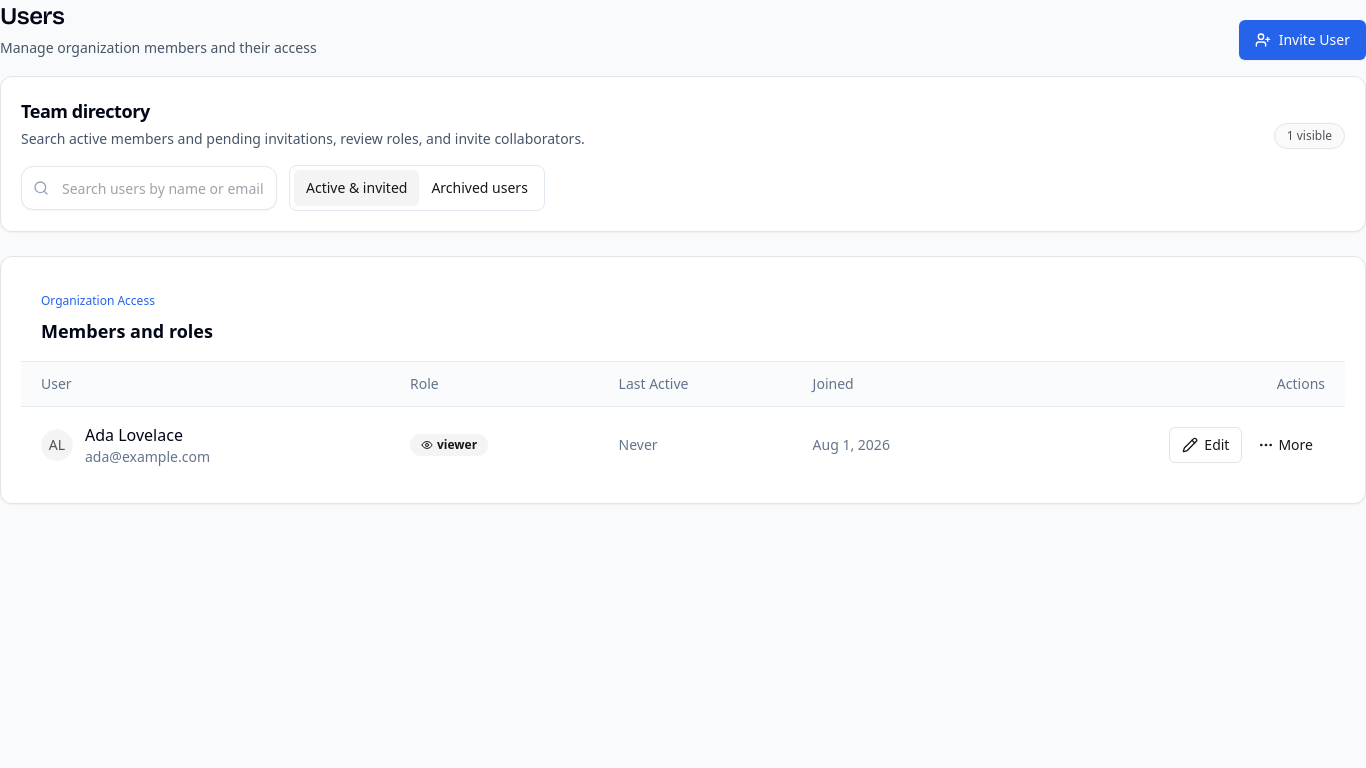
Scenario: Users page row actions › keeps edit and secondary actions usable after an edit saves and refreshes rows
This screenshot has width=1366, height=768.
Click the button with aria-label "Edit Ada Lovelace": (1206, 445) [1169,427,1242,463]
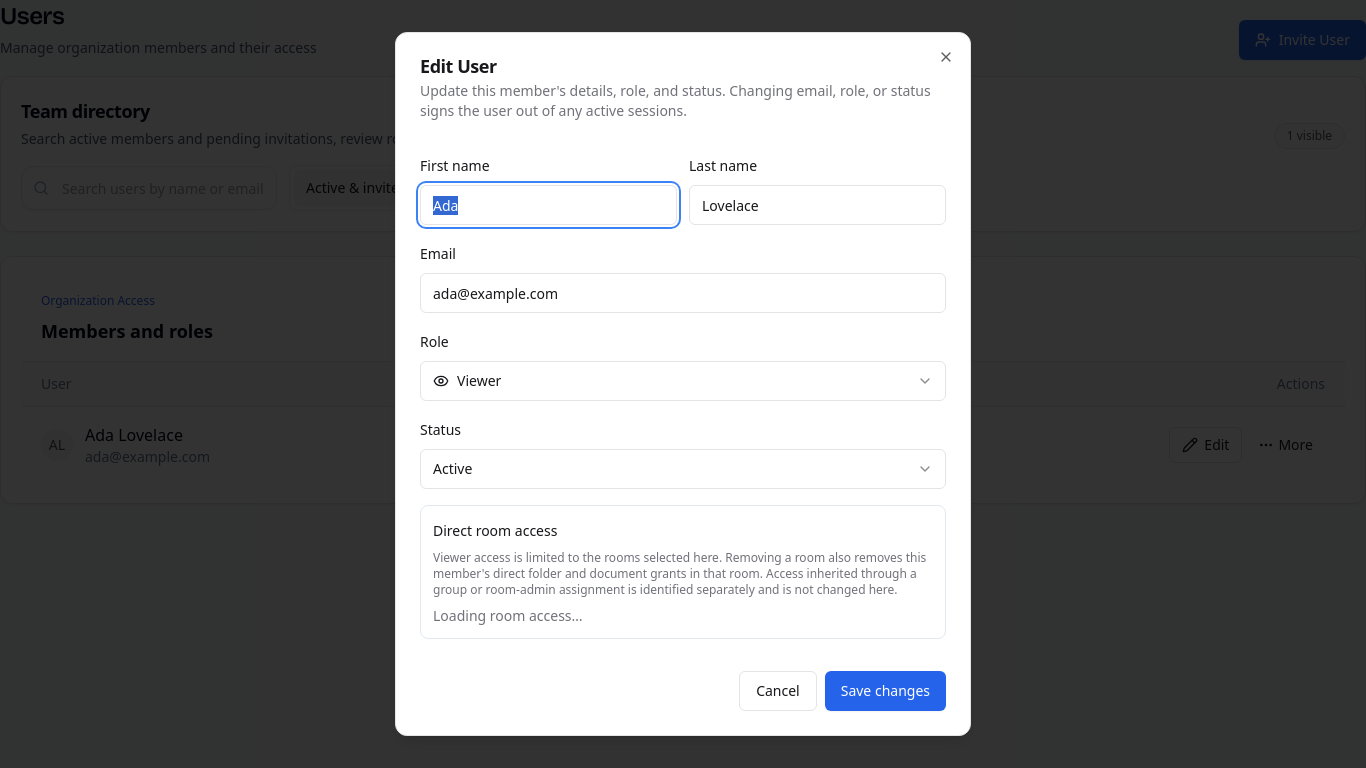
Replace the text in the field labelled "First name" with "Augusta": (548, 205) [420,185,677,225]
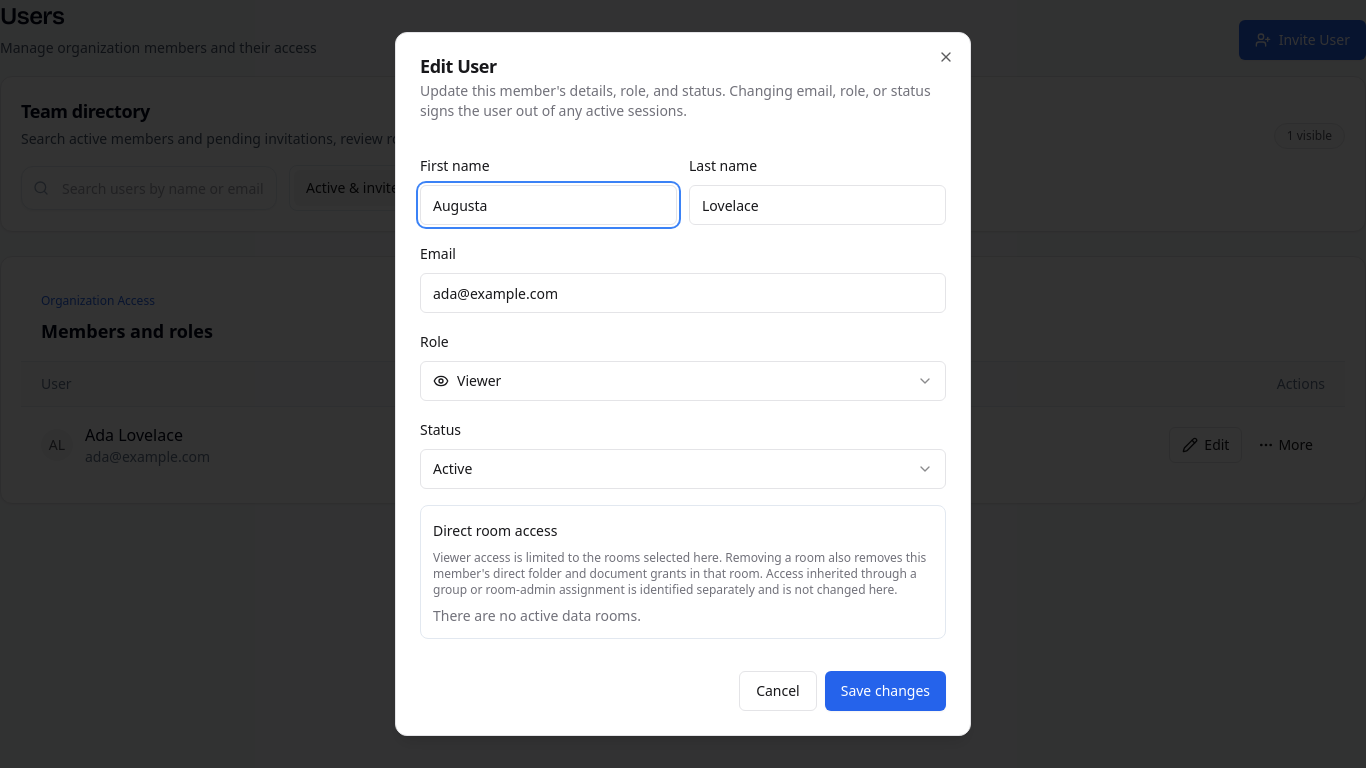
Click the button "Save changes": (885, 691) [825,671,946,711]
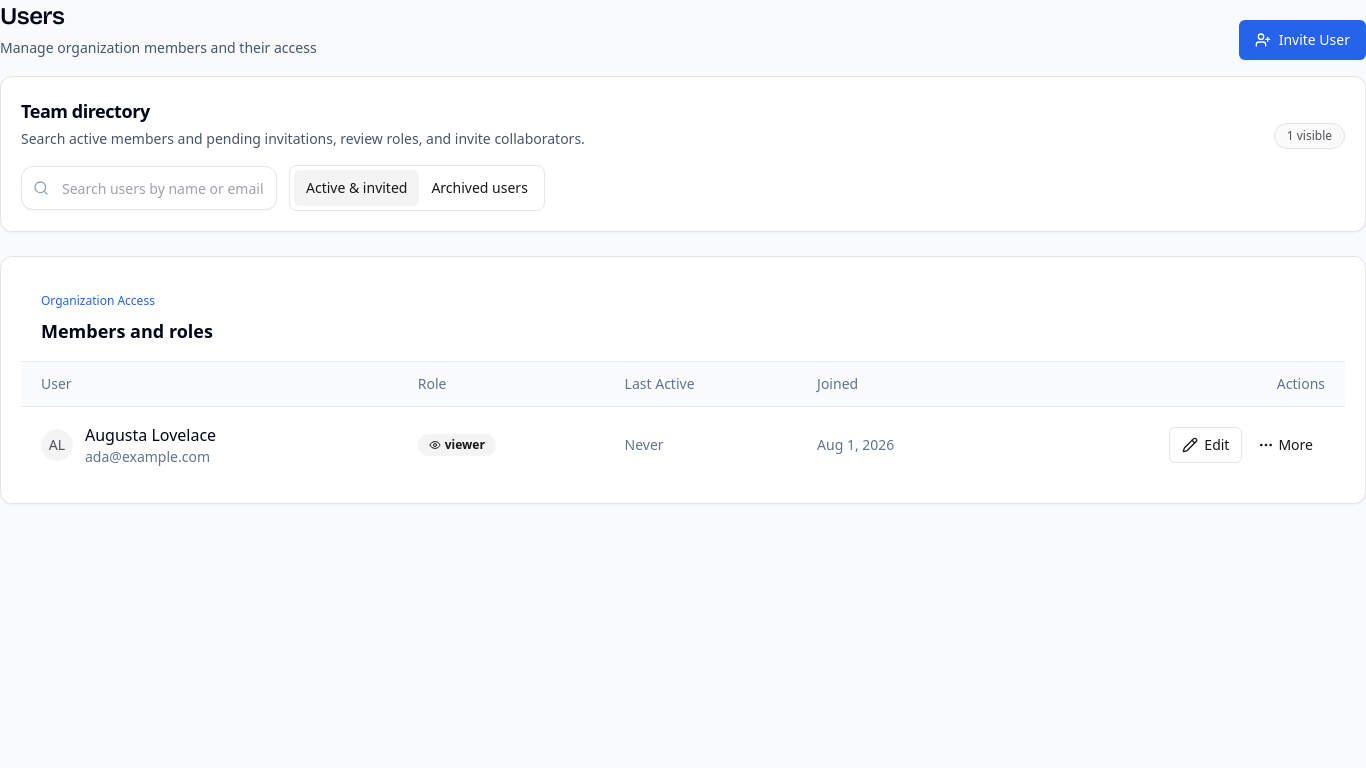
Now the dialog is gone
Click the button with aria-label "Edit Augusta Lovelace": (1206, 445) [1169,427,1242,463]
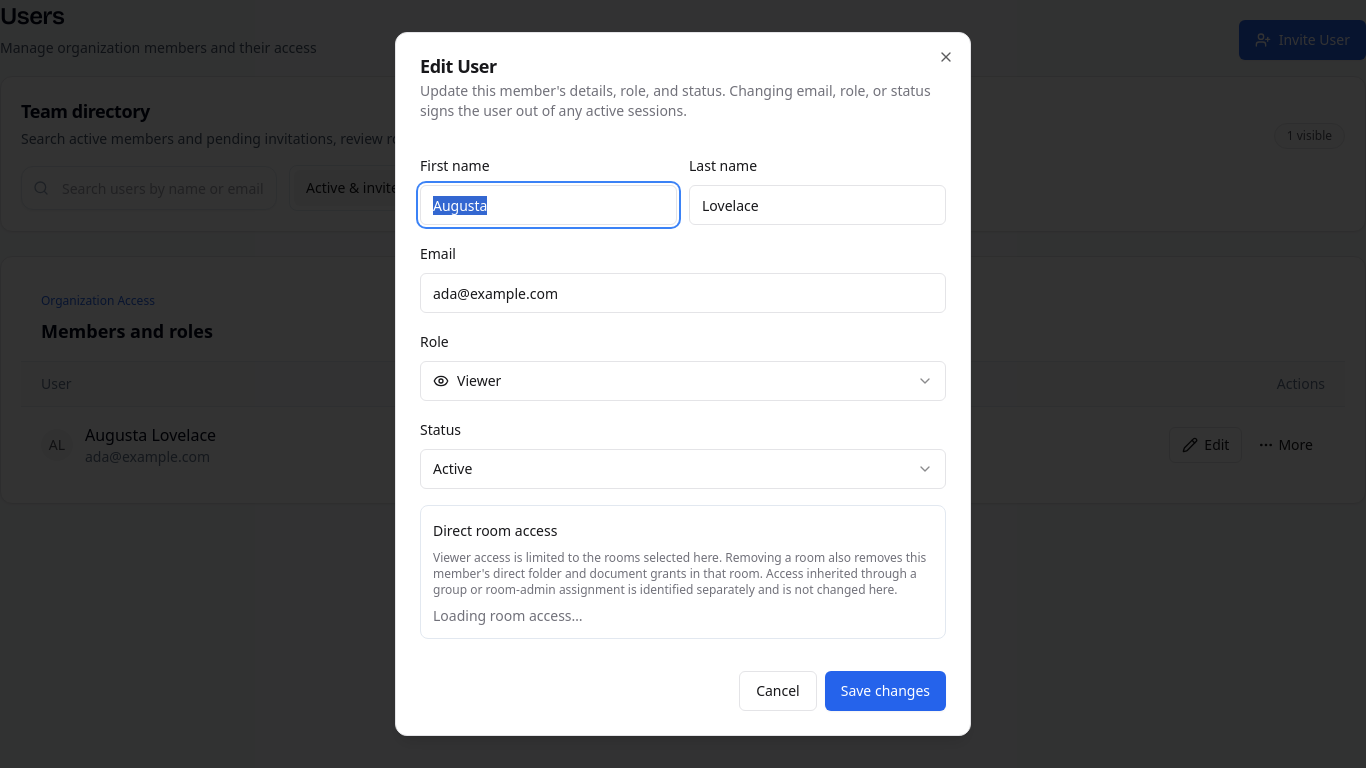
Now the dialog is shown, box [395,32,971,736]
Click the button named "Close": (946, 57) [938,49,954,65]
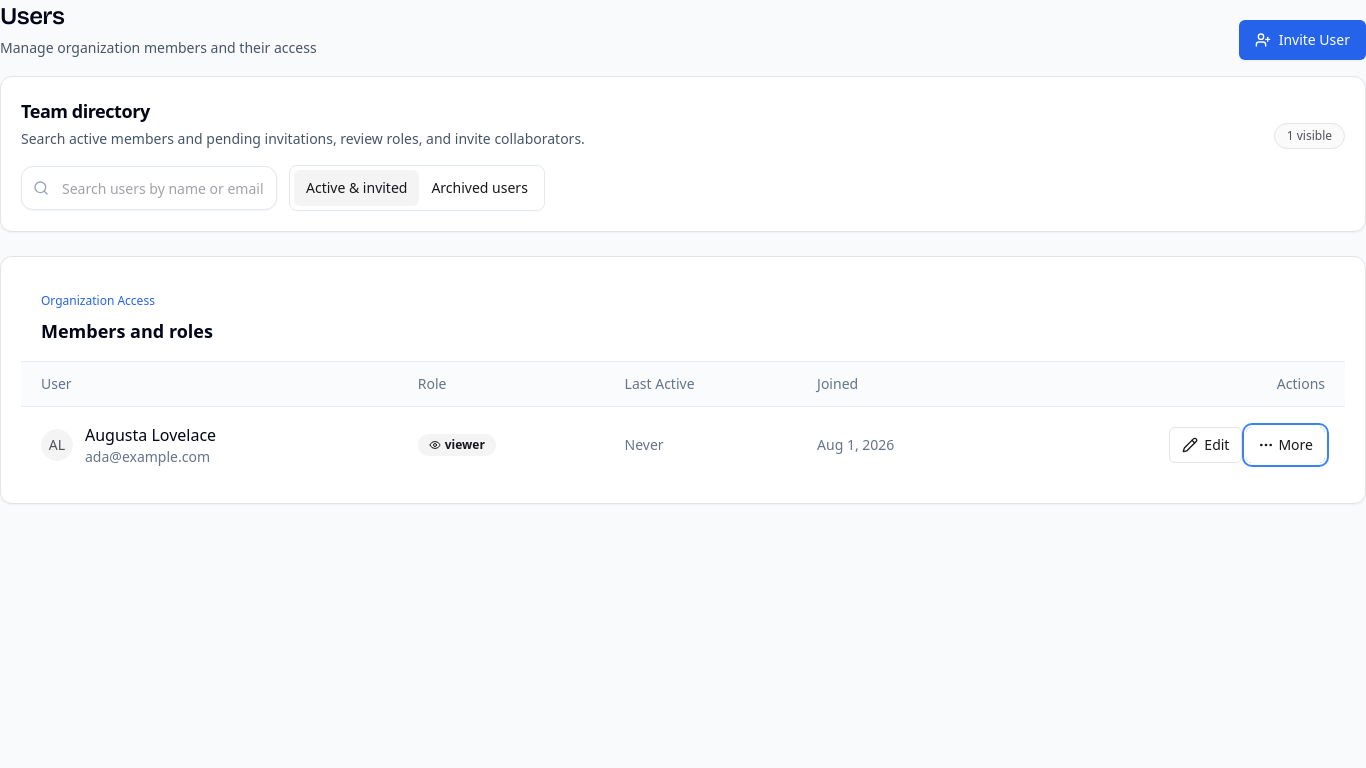
Press ArrowDown in the button with aria-label "More actions for Augusta Lovelace", box [1246,427,1325,463]
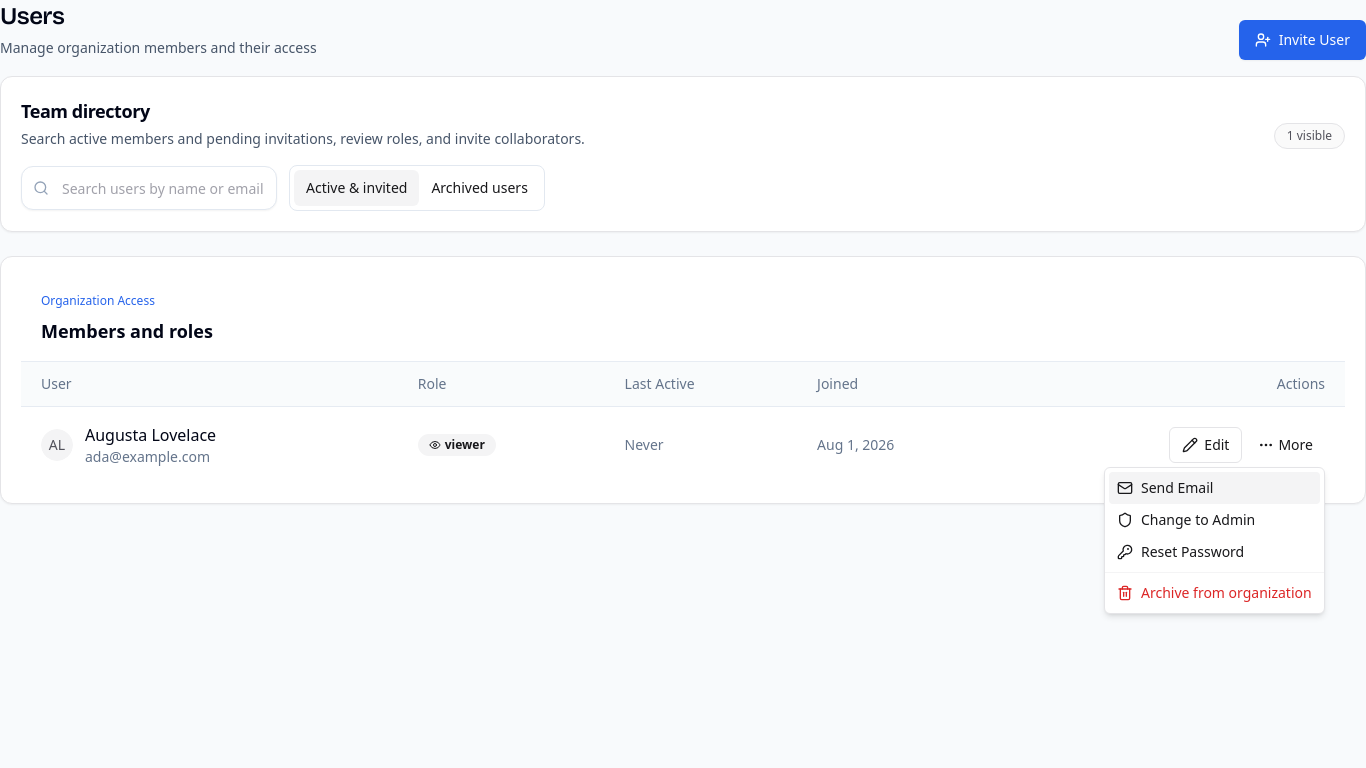
Now the menu item "Send Email" is shown, box [1109,472,1320,504]
